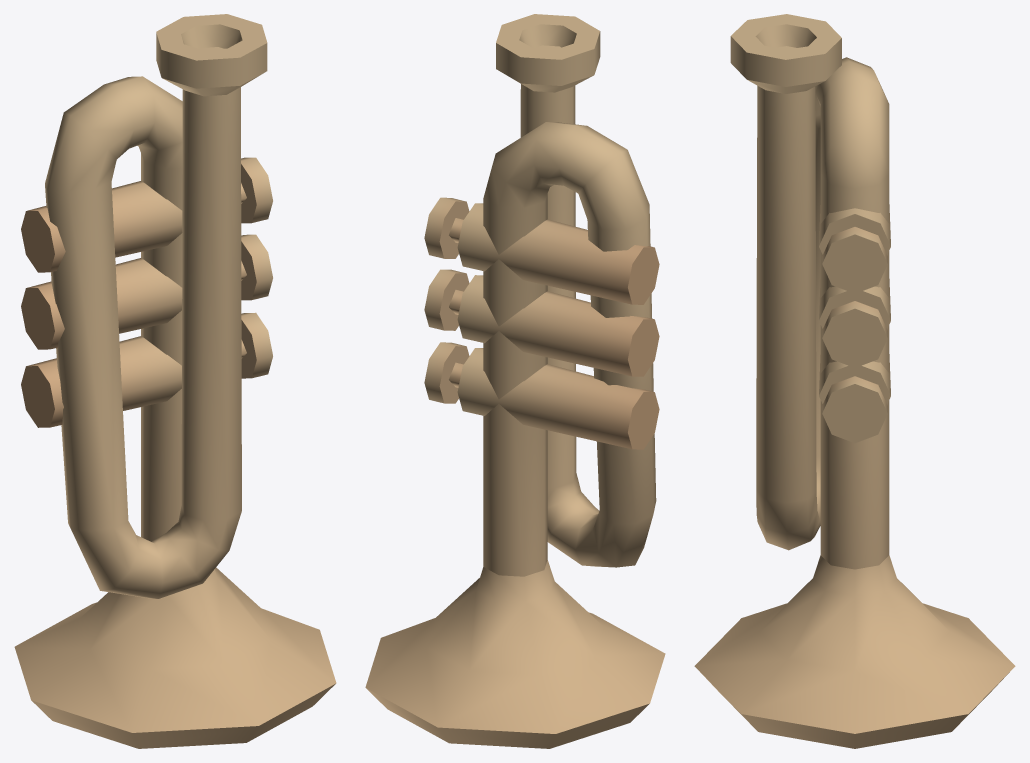
File: instrument-trumpet.glb
3 views of the same model, side by side, from view 1: azimuth 30°, elevation 25°; view 2: azimuth 150°, elevation 25°; view 3: azimuth 270°, elevation 25° (orthographic). The views are drawn at different scales.
Parts seen in each view (by area): view 1: instrument-trumpet; view 2: instrument-trumpet; view 3: instrument-trumpet.
Boxes of the visible parts, x1=… form: instrument-trumpet: x1=14, y1=14, x2=336, y2=748; instrument-trumpet: x1=365, y1=14, x2=665, y2=748; instrument-trumpet: x1=694, y1=14, x2=1015, y2=748.
Size of the model in its own units: 0.207 by 0.4663 by 0.207.
